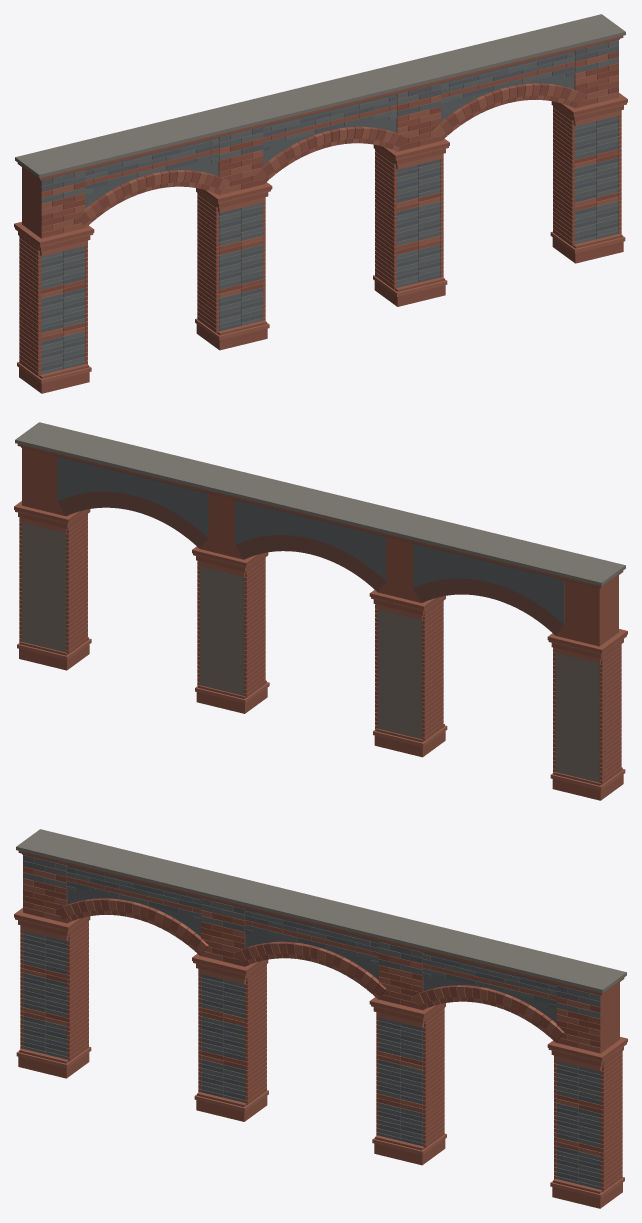
File: hongkou-ohel-moshe-courtyard-brick-arcade-lod.glb
The picture shows the model from 3 angles, top to bottom: view 1: azimuth 30°, elevation 25°; view 2: azimuth 150°, elevation 25°; view 3: azimuth 330°, elevation 25°; orthographic projection.
Parts seen in each view (by area): view 1: 摩西会堂庭院首层三连砖券; view 2: 摩西会堂庭院首层三连砖券; view 3: 摩西会堂庭院首层三连砖券.
Boxes of the visible parts, bbox=[...] form: 摩西会堂庭院首层三连砖券: bbox=[14, 14, 627, 393]; 摩西会堂庭院首层三连砖券: bbox=[14, 422, 627, 800]; 摩西会堂庭院首层三连砖券: bbox=[14, 829, 627, 1208].
Size of the model in its own units: 10.18 by 3.63 by 0.779.
